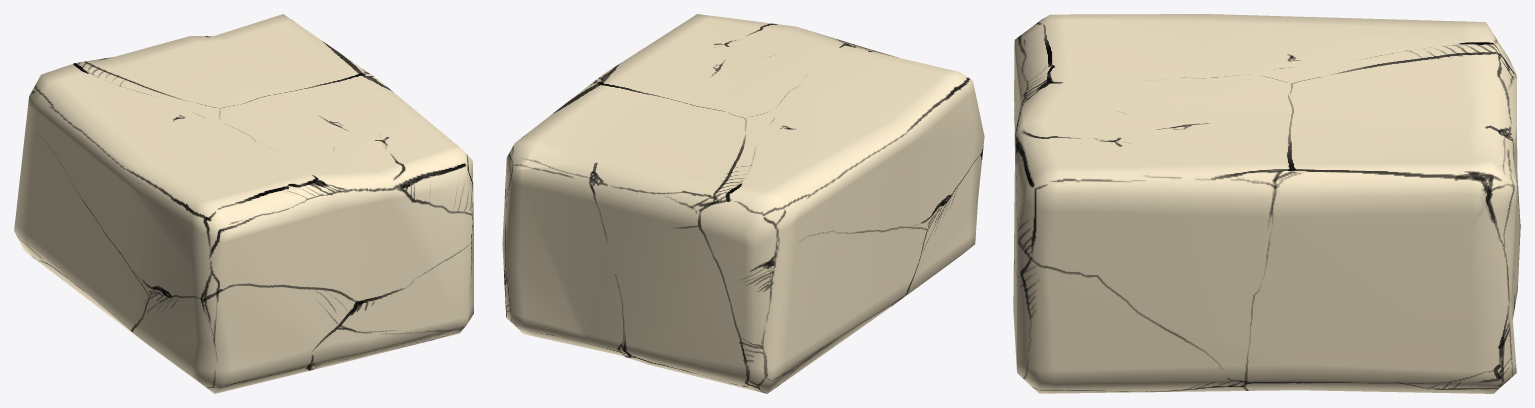
Rendered from outlined_rock.glb.
3 views of the same model, side by side, from view 1: azimuth 30°, elevation 25°; view 2: azimuth 150°, elevation 25°; view 3: azimuth 270°, elevation 25° (orthographic). The views are drawn at different scales.
Parts seen in each view (by area): view 1: Cube; view 2: Cube; view 3: Cube.
Part boxes in pixels (x1=…): Cube: x1=14, y1=14, x2=473, y2=393; Cube: x1=502, y1=14, x2=984, y2=393; Cube: x1=1013, y1=14, x2=1520, y2=393.
Size of the model in its own units: 1.66 by 1.02 by 2.03.
Materials: 1 (1 with a texture image).
